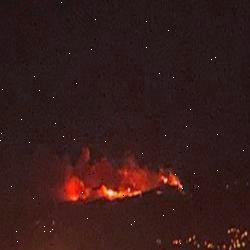fire: (48, 166, 196, 207)
